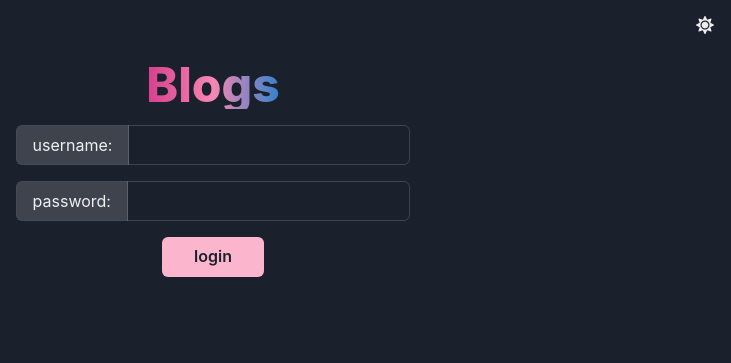
Test: Blog app › Login › fails with wrong credentials
In the field with id "username": (270, 145) 129,125 -> 411,165, type "mluukkai"
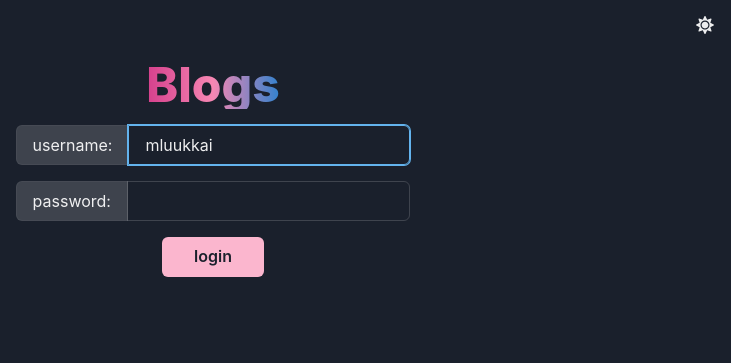
In the password field: (269, 201) 127,181 -> 411,221, type "wrong password"
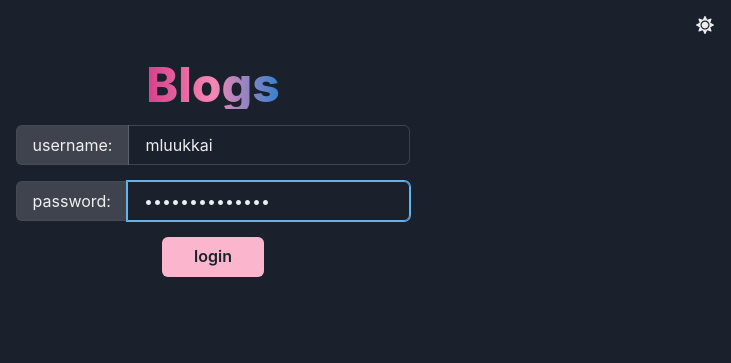
Click the button with id "loginButton": click(213, 257) 162,237 -> 264,277
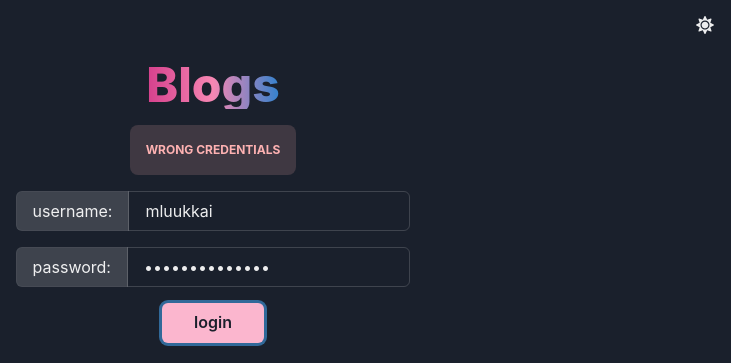
Expected: the text "Wrong Credentials" is shown, 130,125 -> 296,175
